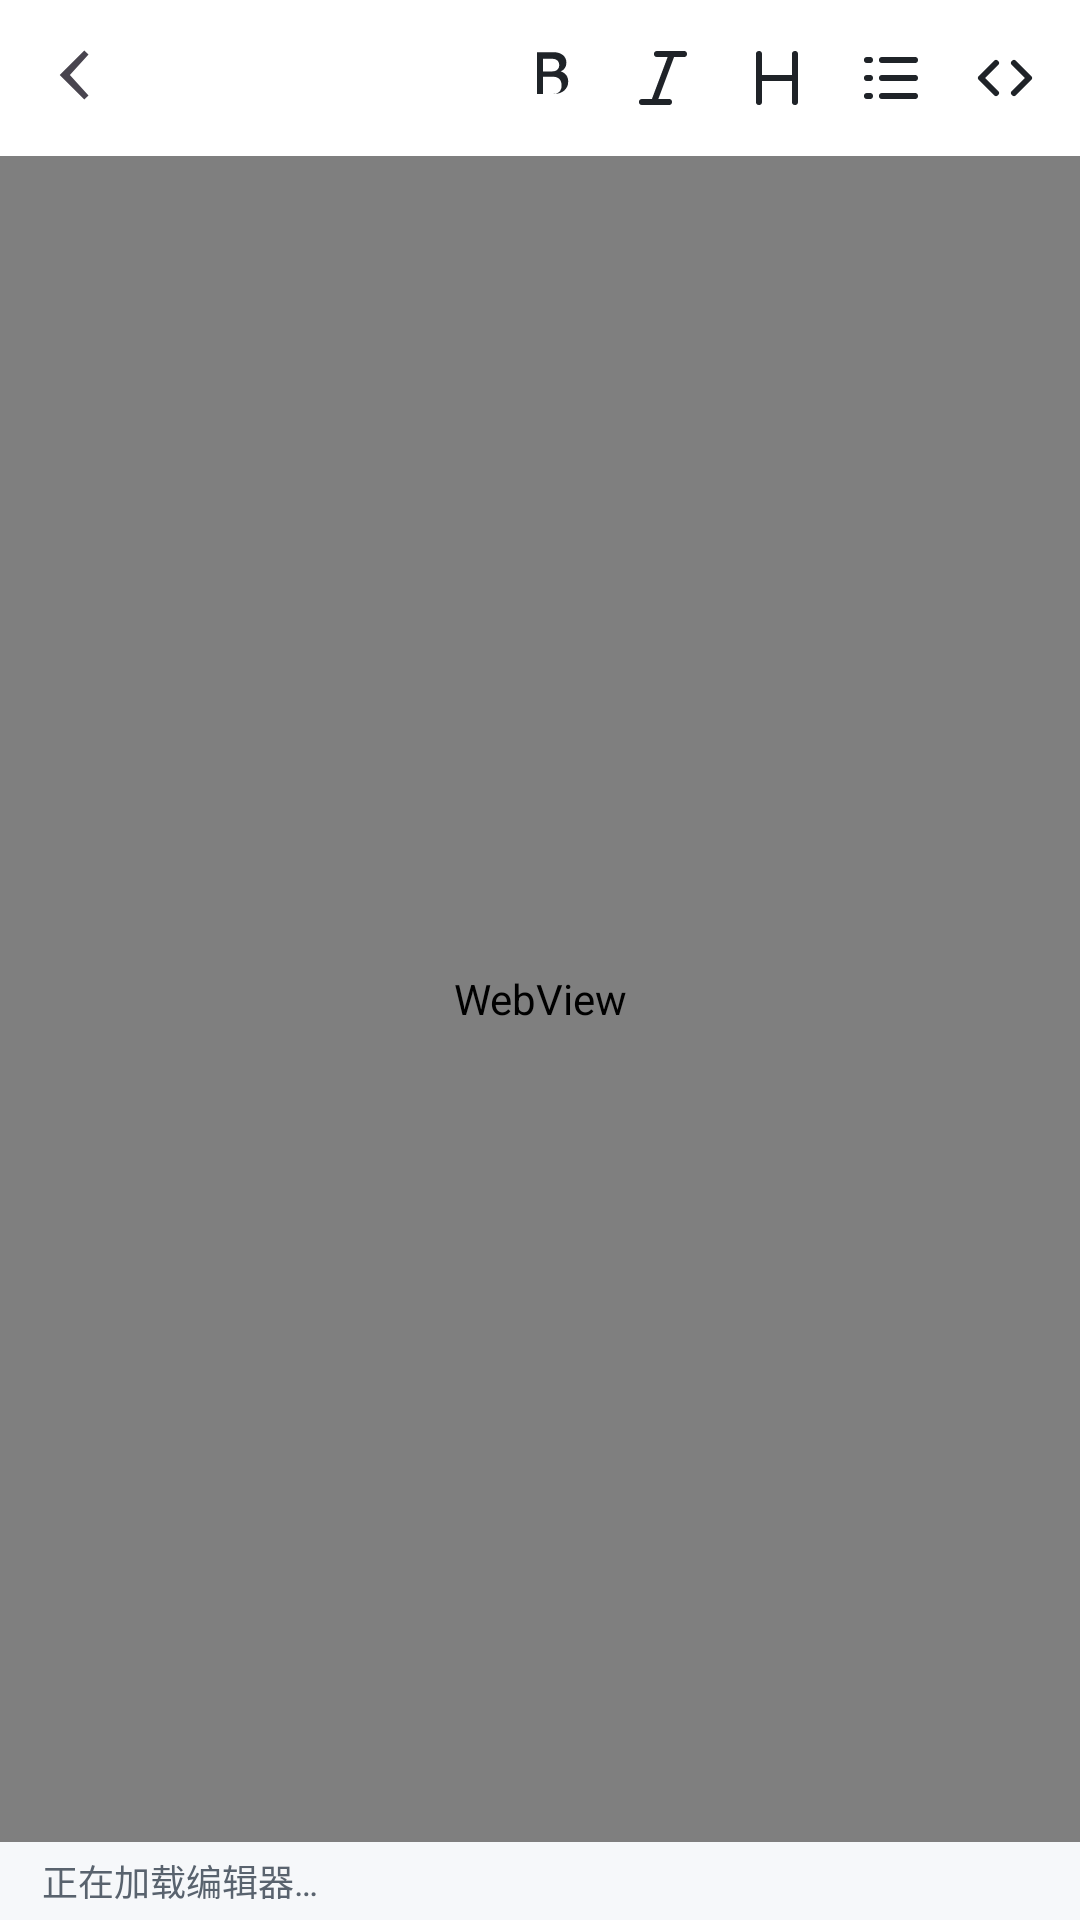

Named icons in this screenshot (1080px×1920px) and their bounding boxes, (x1, y1, x2, y2):
切换到源码: (978, 60, 1032, 96)
列表: (864, 57, 918, 99)
加粗: (537, 52, 569, 94)
斜体: (639, 51, 687, 105)
标题: (756, 51, 798, 105)
返回: (60, 50, 89, 100)
